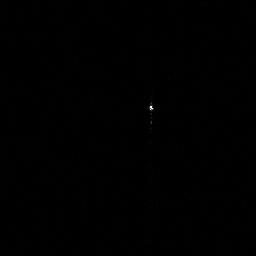ship: (148, 101, 154, 126)
